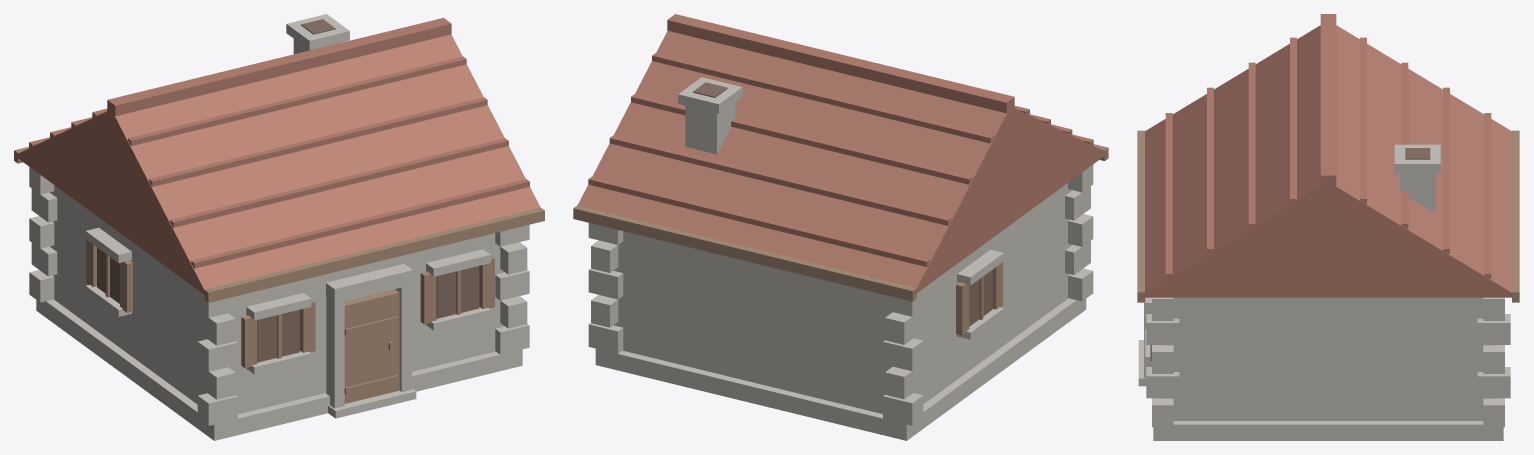
File: stone-house.glb
The picture shows the model from 3 angles, left to right: view 1: azimuth 30°, elevation 25°; view 2: azimuth 150°, elevation 25°; view 3: azimuth 270°, elevation 25°; orthographic projection. The views are drawn at different scales.
Visible parts, largest first — view 1: stone-house_roof, stone-house_stone, stone-house_wood, stone-house_door, stone-house_window; view 2: stone-house_roof, stone-house_stone, stone-house_wood, stone-house_window; view 3: stone-house_roof, stone-house_stone, stone-house_wood.
Boxes of the visible parts, x1,y1,x2,y2 form: stone-house_roof: (14, 18, 540, 296); stone-house_stone: (29, 14, 529, 440); stone-house_wood: (14, 146, 544, 368); stone-house_door: (344, 289, 399, 403); stone-house_window: (97, 19, 479, 362); stone-house_roof: (577, 14, 1106, 295); stone-house_stone: (588, 77, 1093, 440); stone-house_wood: (573, 144, 1108, 335); stone-house_window: (693, 82, 992, 326); stone-house_roof: (1137, 14, 1519, 297); stone-house_stone: (1138, 144, 1510, 440); stone-house_wood: (1137, 130, 1519, 361).
Size of the model in its own units: 2 by 1.57 by 2.
